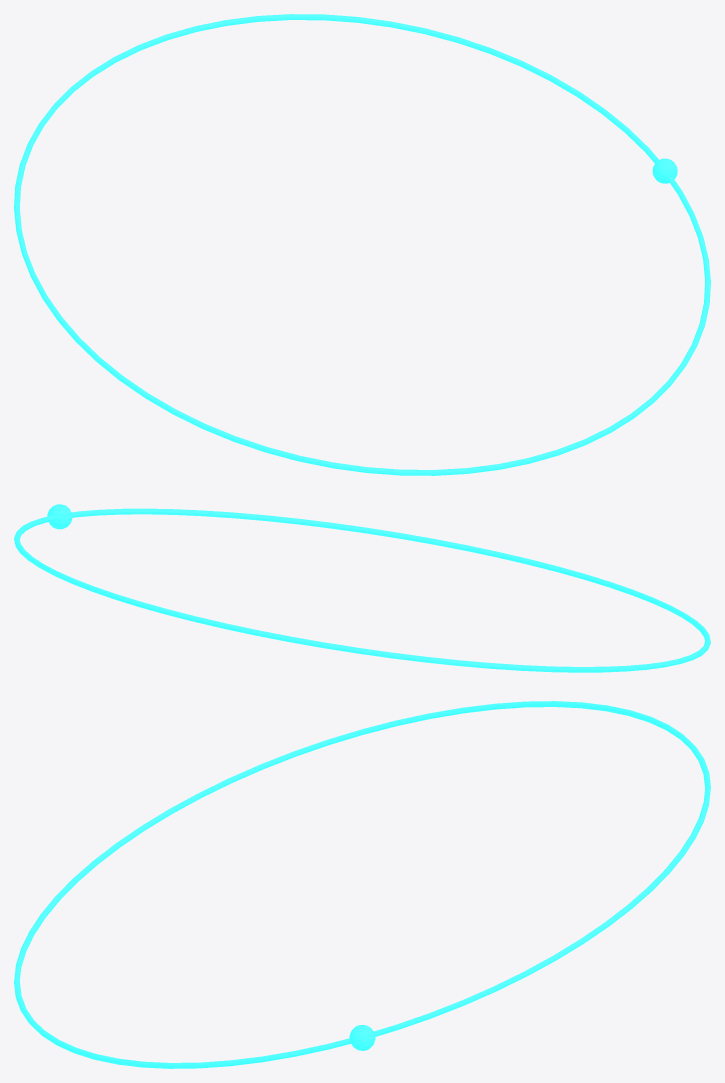
File: energy_orbit.glb
3 views of the same model, one above another, from view 1: azimuth 30°, elevation 25°; view 2: azimuth 150°, elevation 25°; view 3: azimuth 270°, elevation 25° (orthographic). The views are drawn at different scales.
Parts seen in each view (by area): view 1: EnergyOrbit; view 2: EnergyOrbit, OrbitBeacon; view 3: EnergyOrbit.
Part boxes in pixels (x1,y1,x2,y2): EnergyOrbit: (14,14,710,475); EnergyOrbit: (14,508,710,672); OrbitBeacon: (47,504,72,529); EnergyOrbit: (14,701,710,1068).
Size of the model in its own units: 15.74 by 4.68 by 14.84.
